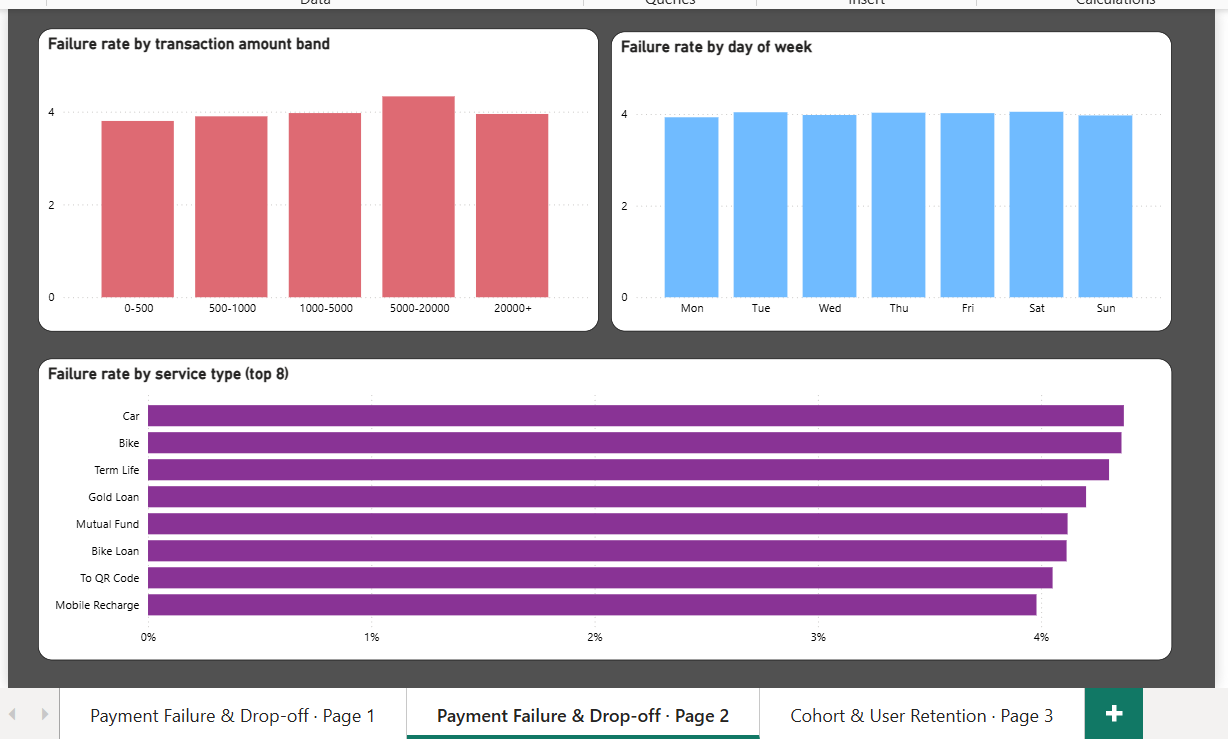

Layout of this report page (visuals, bound fields, positions):
{"tool":"powerbi","page":{"name":"Payment Failure & Drop-off · Page 2","canvas":[1280,720],"ordinal":1},"visuals":[{"type":"columnChart","title":"Failure rate by transaction amount band","fields":{"Y":["Avg(VW_FAILURE_BY_AMOUNT_BUCKET.FAILED_RATE)"],"Category":["VW_FAILURE_BY_AMOUNT_BUCKET.AMOUNT_BUCKET"]},"box":[31.8,20.7,594.9,321.3],"z":0},{"type":"columnChart","title":"Failure rate by day of week","fields":{"Y":["Avg(VW_FAILURE_BY_DAY_OF_WEEK.FAILED_RATE)"],"Category":["VW_FAILURE_BY_DAY_OF_WEEK.DAY_OF_WEEK"]},"box":[639.4,23.9,594.9,318.1],"z":1000},{"type":"barChart","title":"Failure rate by service type (top 8)","fields":{"Y":["FACT_TRANSACTIONS.Failed Rate %"],"Category":["FACT_TRANSACTIONS.SERVICE TYPE"]},"box":[31.8,370.6,1202.5,319.7],"z":2000}]}

Visuals, with their boxes on the page's 1280x720 design canvas (x1, y1, x2, y2). These are canvas units, not pixel positions in the 1228x739 screenshot, which may show the page scaled, cropped or inside an application window:
"Failure rate by transaction amount band" columnChart: Rect(32, 21, 627, 342)
"Failure rate by day of week" columnChart: Rect(639, 24, 1234, 342)
"Failure rate by service type (top 8)" barChart: Rect(32, 371, 1234, 690)
